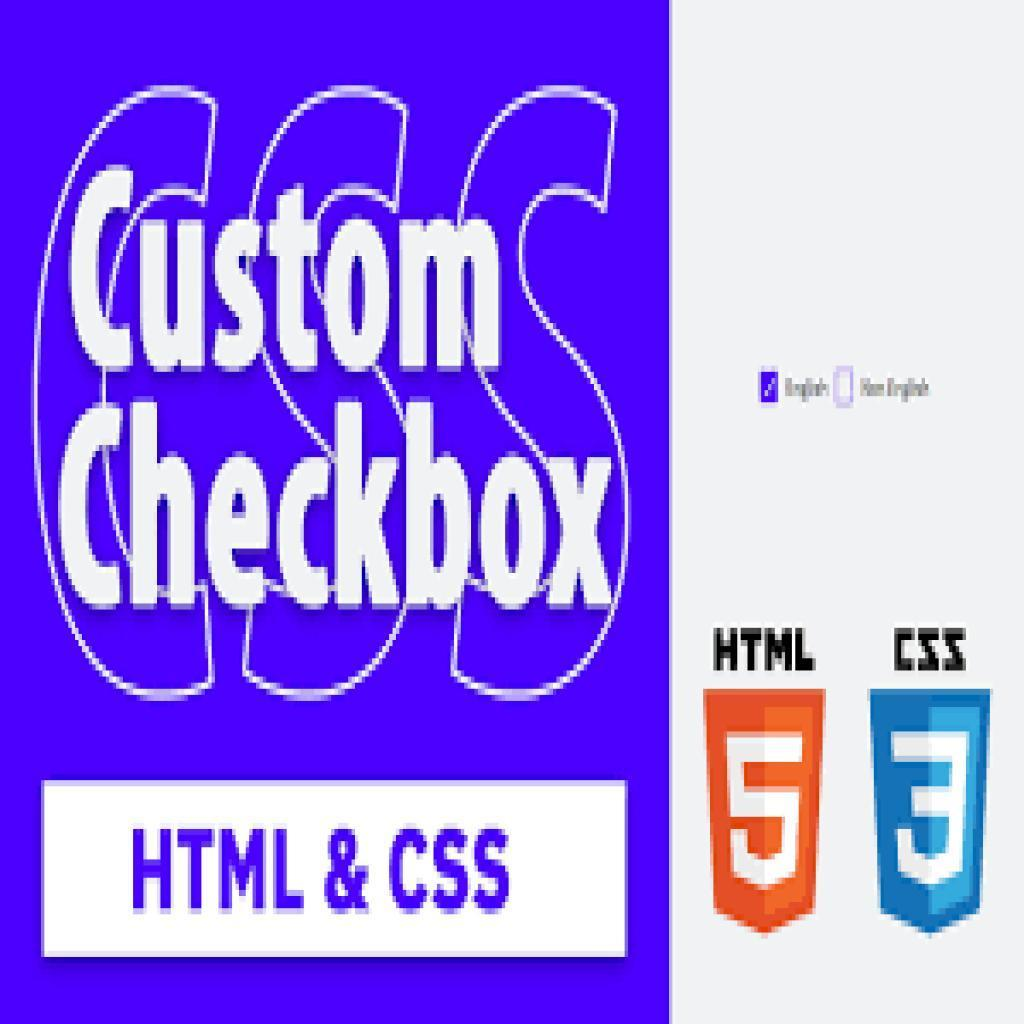checkbox: (834, 367, 855, 408), (760, 371, 779, 404)
label: (858, 374, 933, 403), (785, 375, 829, 404)
